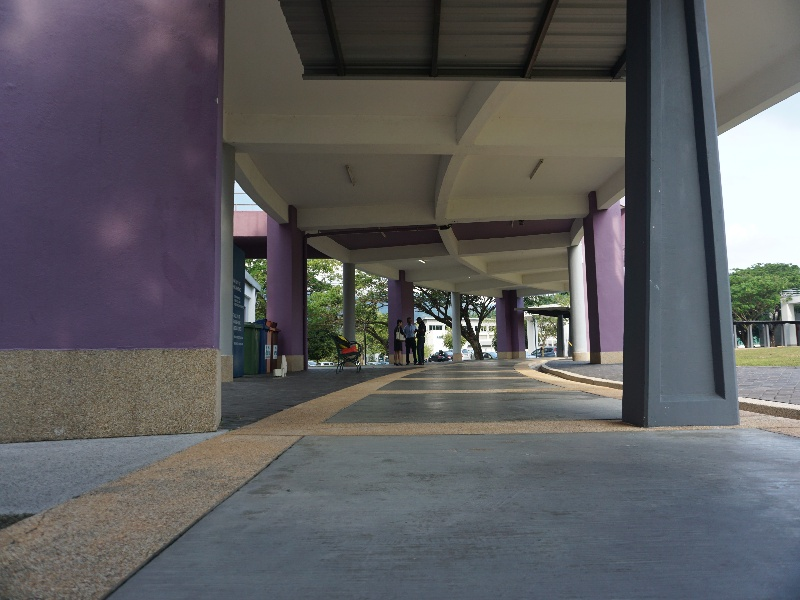pillar: (20, 8, 232, 439)
